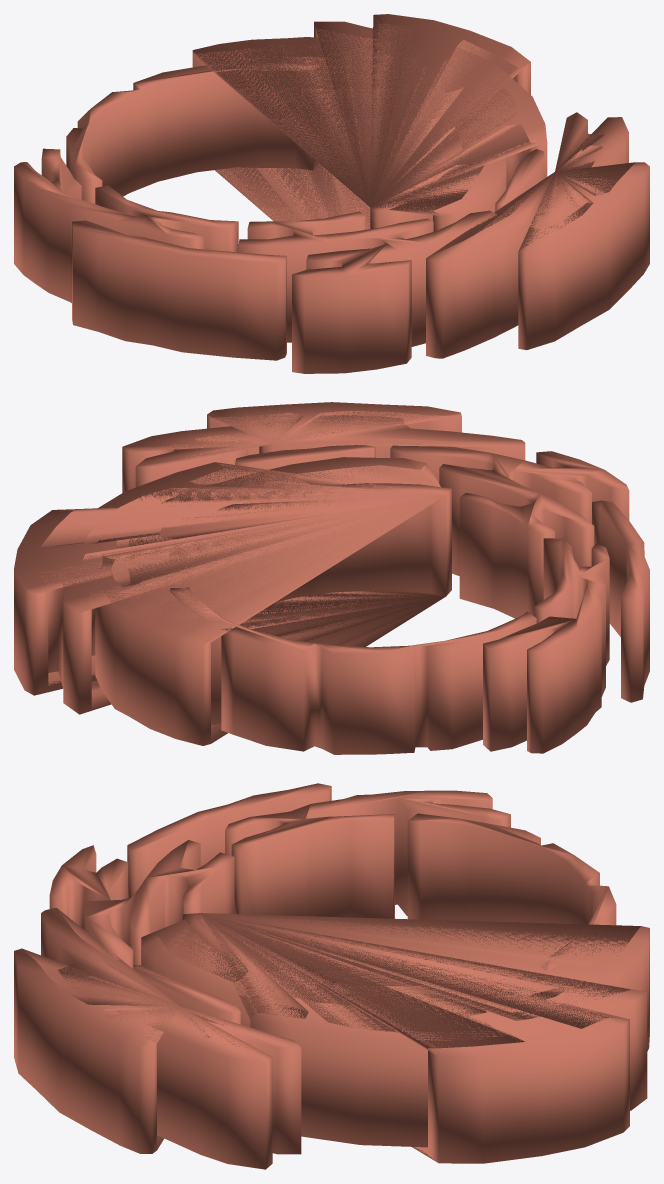
File: Reticulum.fbx
The picture shows the model from 3 angles, top to bottom: view 1: azimuth 30°, elevation 25°; view 2: azimuth 150°, elevation 25°; view 3: azimuth 270°, elevation 25°; orthographic projection. The views are drawn at different scales.
Visible parts, largest first — view 1: polySurface2; view 2: polySurface2; view 3: polySurface2.
Part boxes in pixels (box(x1,y1,x2,y2)): polySurface2: box(14, 14, 649, 373); polySurface2: box(14, 402, 649, 754); polySurface2: box(14, 783, 649, 1169).
Size of the model in its own units: 967 by 172 by 928.
